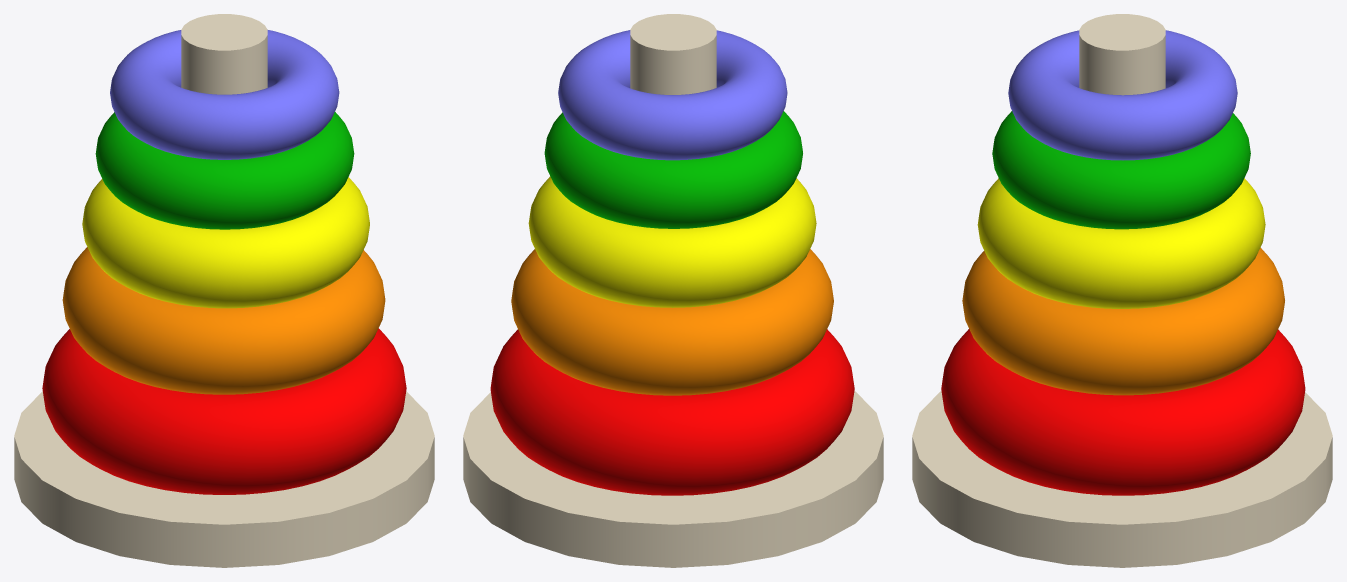
The model's file is ring-stacker.glb.
3 views of the same model, side by side, from view 1: azimuth 30°, elevation 25°; view 2: azimuth 150°, elevation 25°; view 3: azimuth 270°, elevation 25° (orthographic).
Parts seen in each view (by area): view 1: Geom3D (×5), Geom3D_ (×2); view 2: Geom3D (×5), Geom3D_ (×2); view 3: Geom3D (×5), Geom3D_ (×2).
Boxes of the visible parts, x1,y1,x2,y2 form: Geom3D (×5): (42,30,406,494); Geom3D_ (×2): (14,14,434,567); Geom3D (×5): (490,30,854,495); Geom3D_ (×2): (463,14,883,567); Geom3D (×5): (941,30,1305,495); Geom3D_ (×2): (912,14,1332,567).
Bounding box in the file's own units: 0.2693 × 0.3156 × 0.2693.
